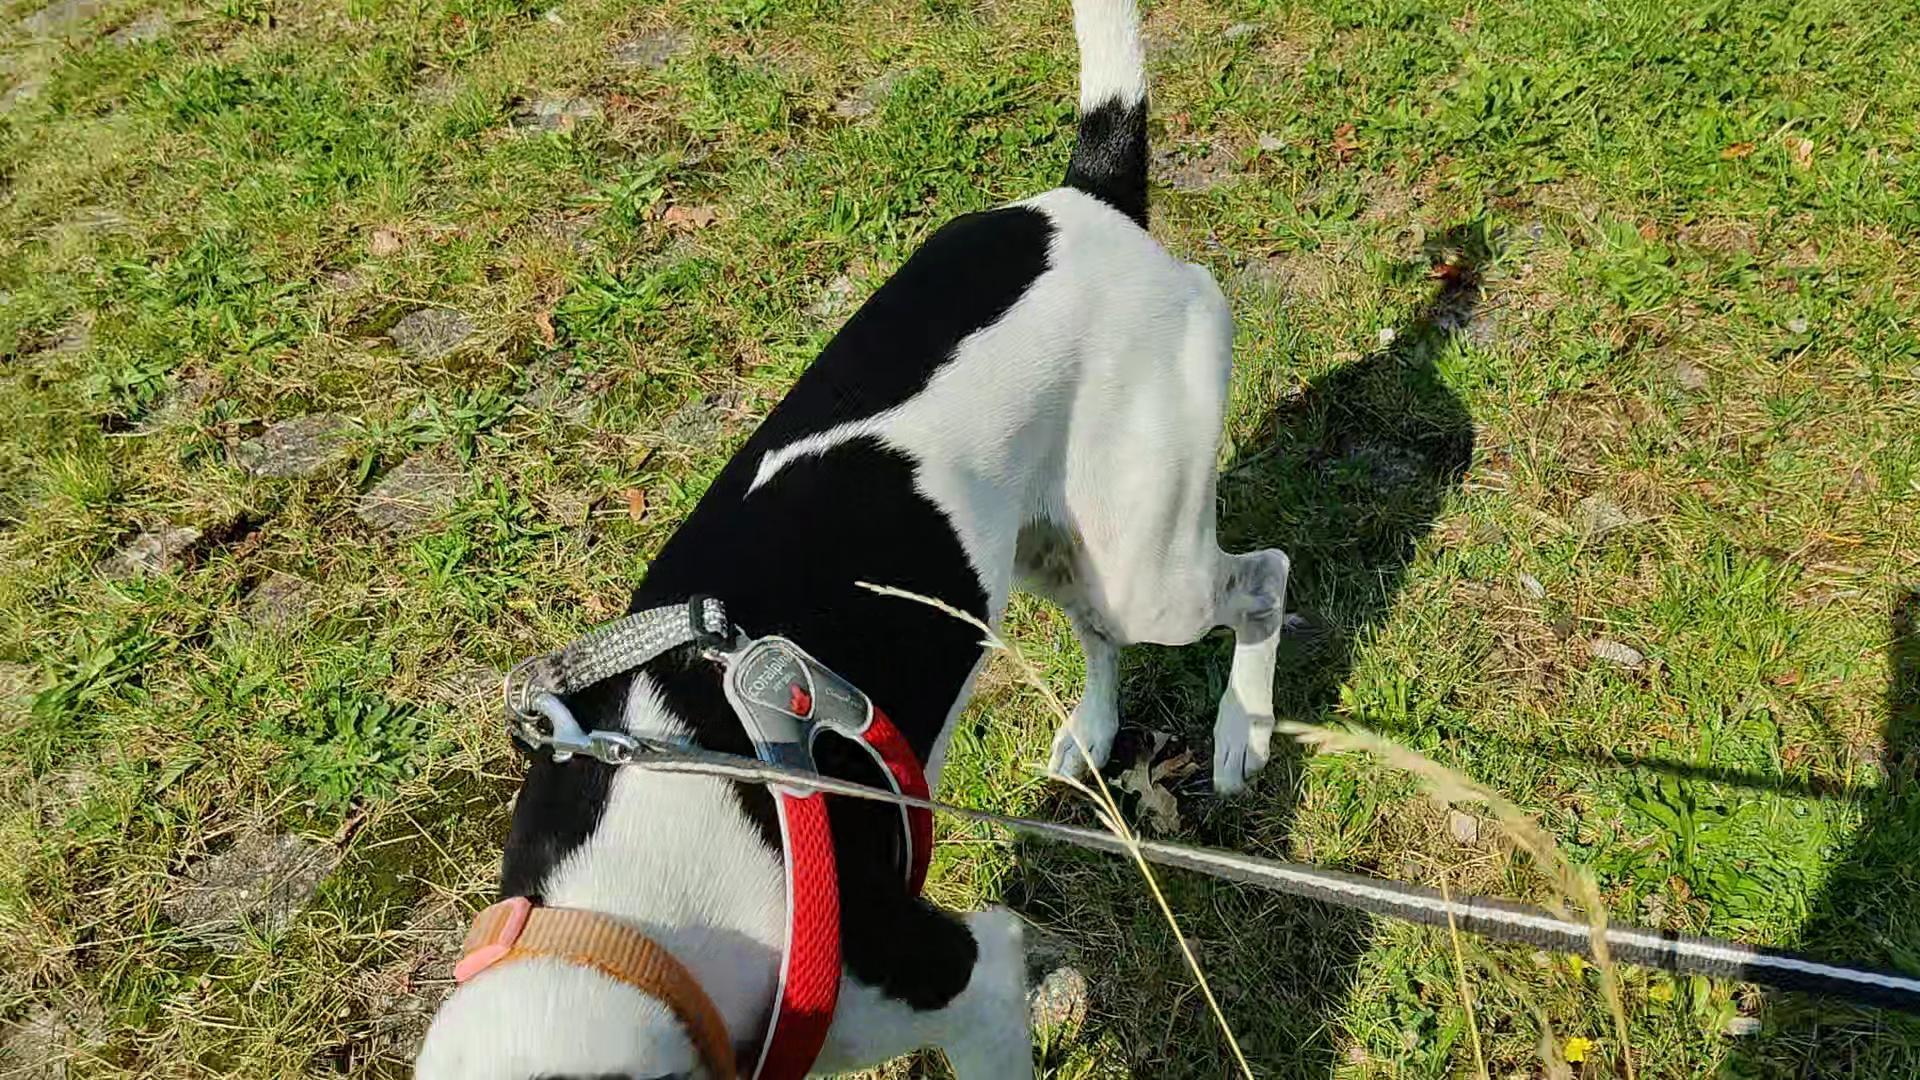Dog: (336, 0, 1305, 1079)
